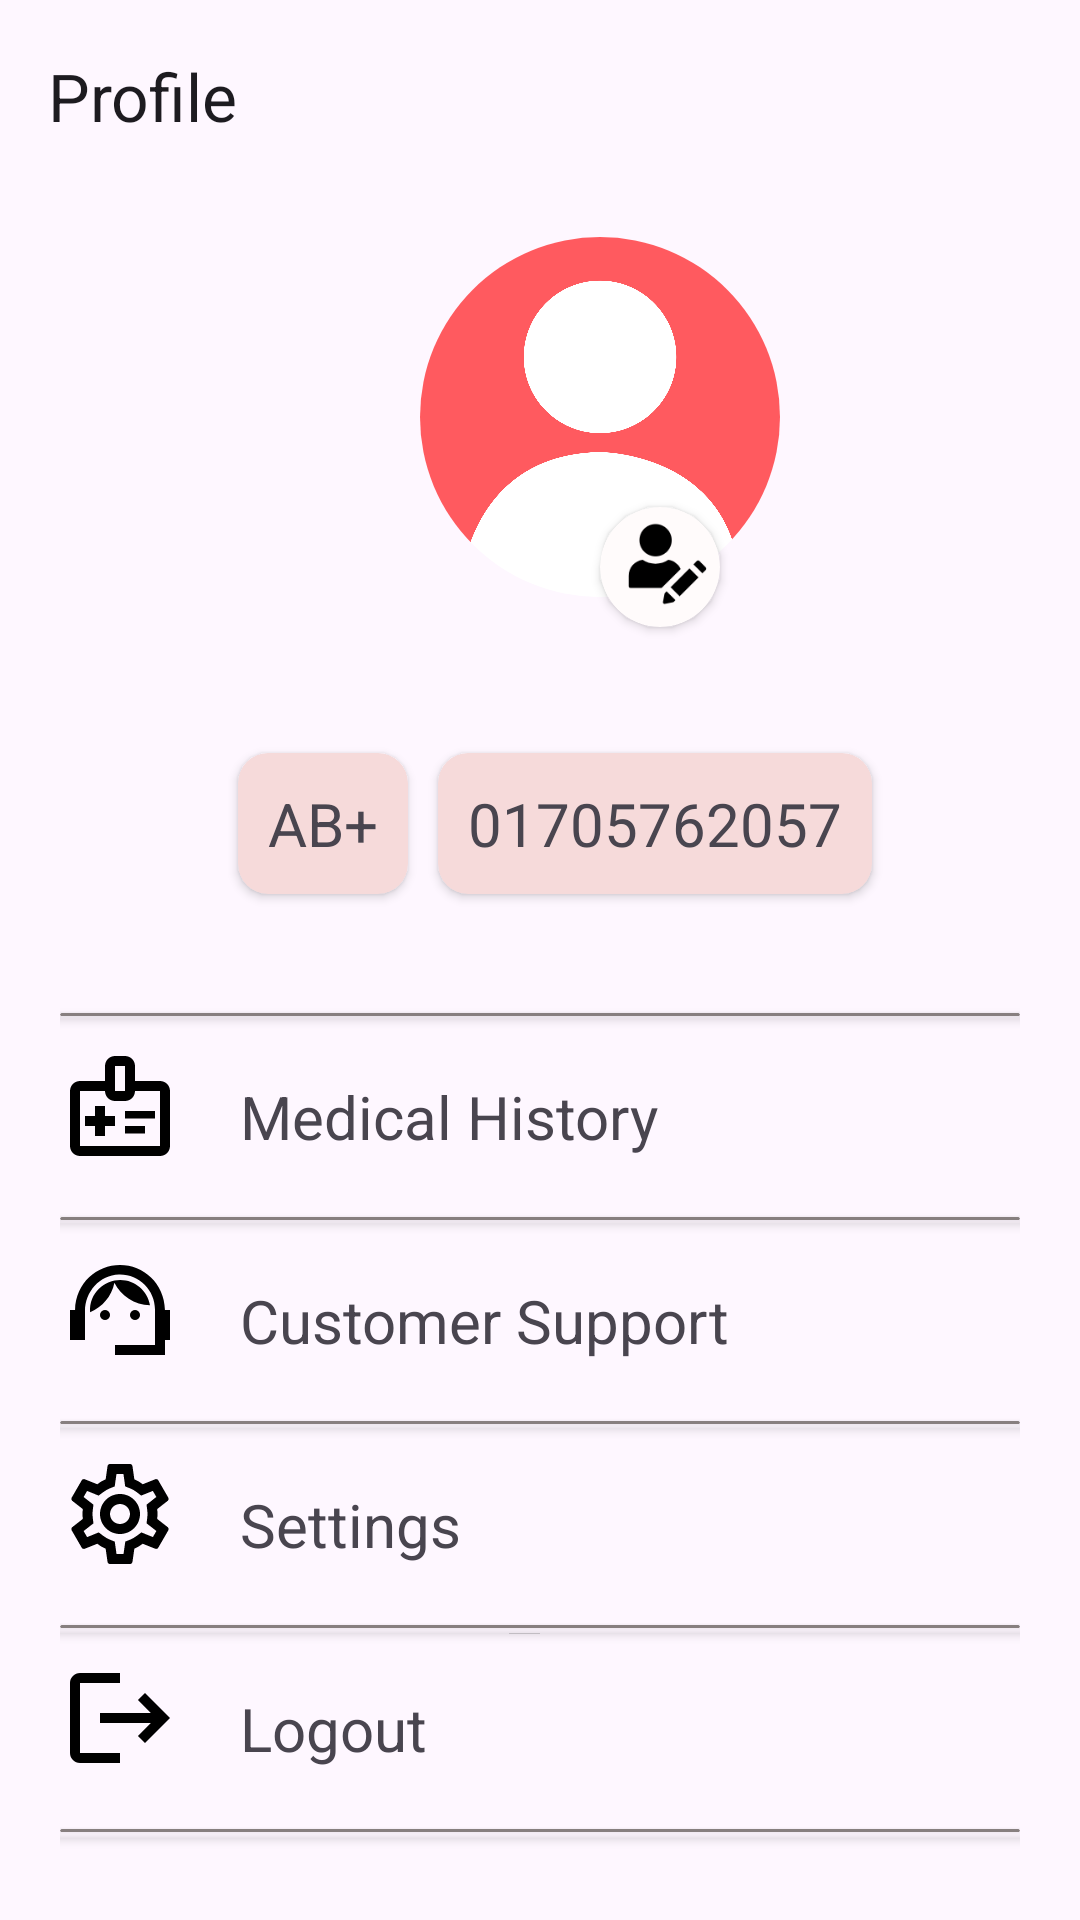

Icon bounding boxes for this 1080 × 1920 phone screenshot, format (left=x1, top=y1, right=x2, bottom=y2):
editprofile: (left=600, top=523, right=720, bottom=627)
medical information: (left=70, top=1056, right=170, bottom=1156)
support agent: (left=70, top=1265, right=170, bottom=1355)
